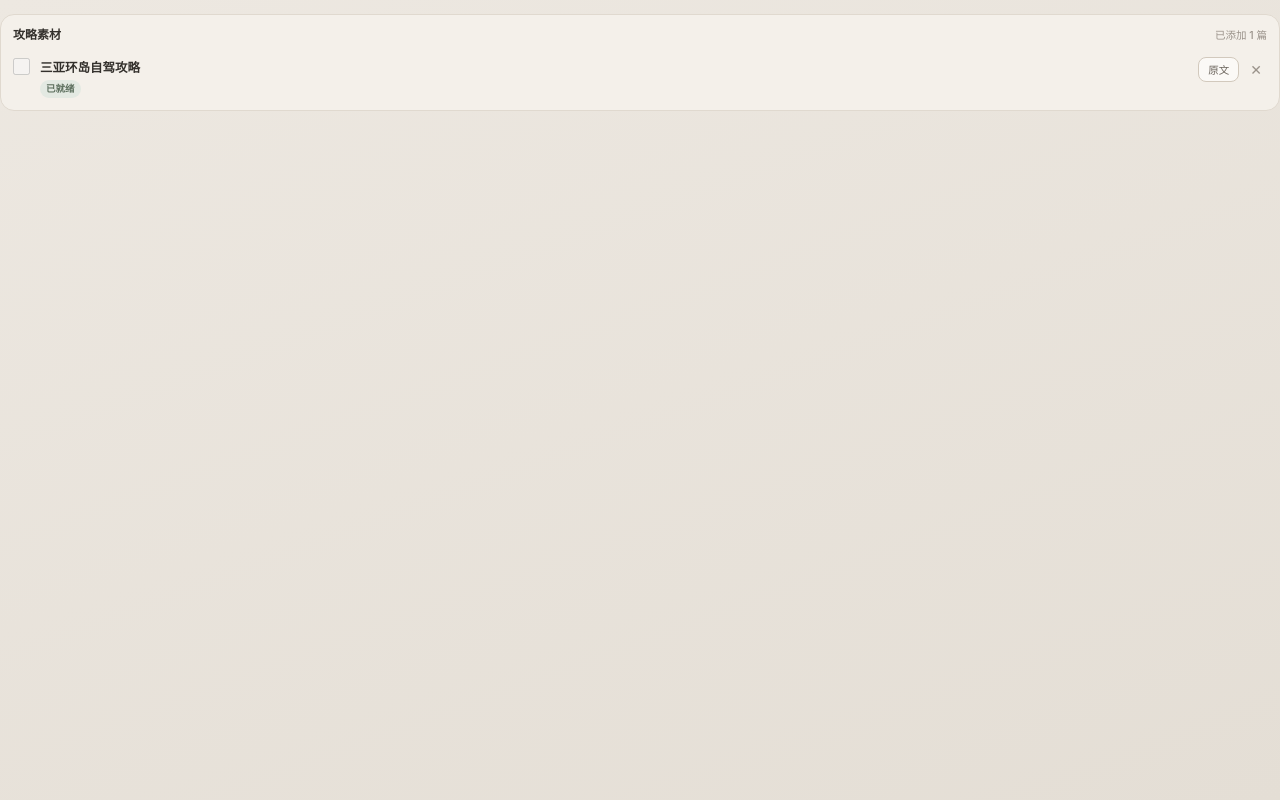
it: GuideSourceList 删除二次确认（任务 188） › 链接攻略：确认文案标注类型与来源标题
Click the button named "移除该攻略".
click(1256, 70)  # box [1245,60,1267,80]
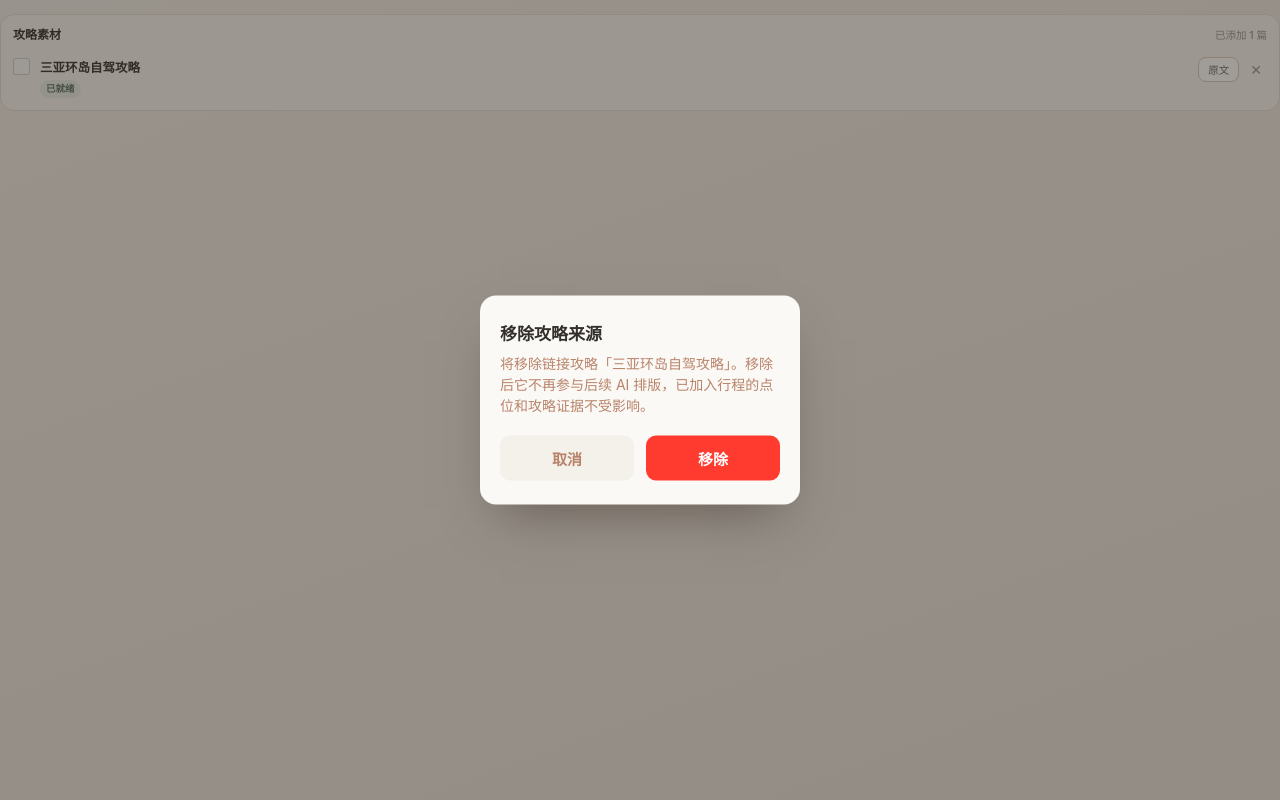
Check: the text "将移除链接攻略「三亚环岛自驾攻略」。移除后它不再参与后续 AI 排版，已加入行程的点位和攻略证据不受影响。" is shown, box [500,352,780,416]
